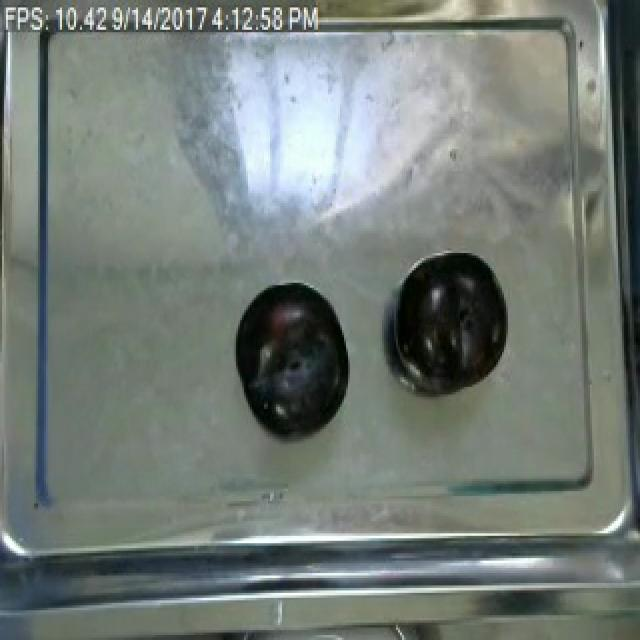Fruit: (232, 278, 352, 437), (394, 250, 510, 390)
